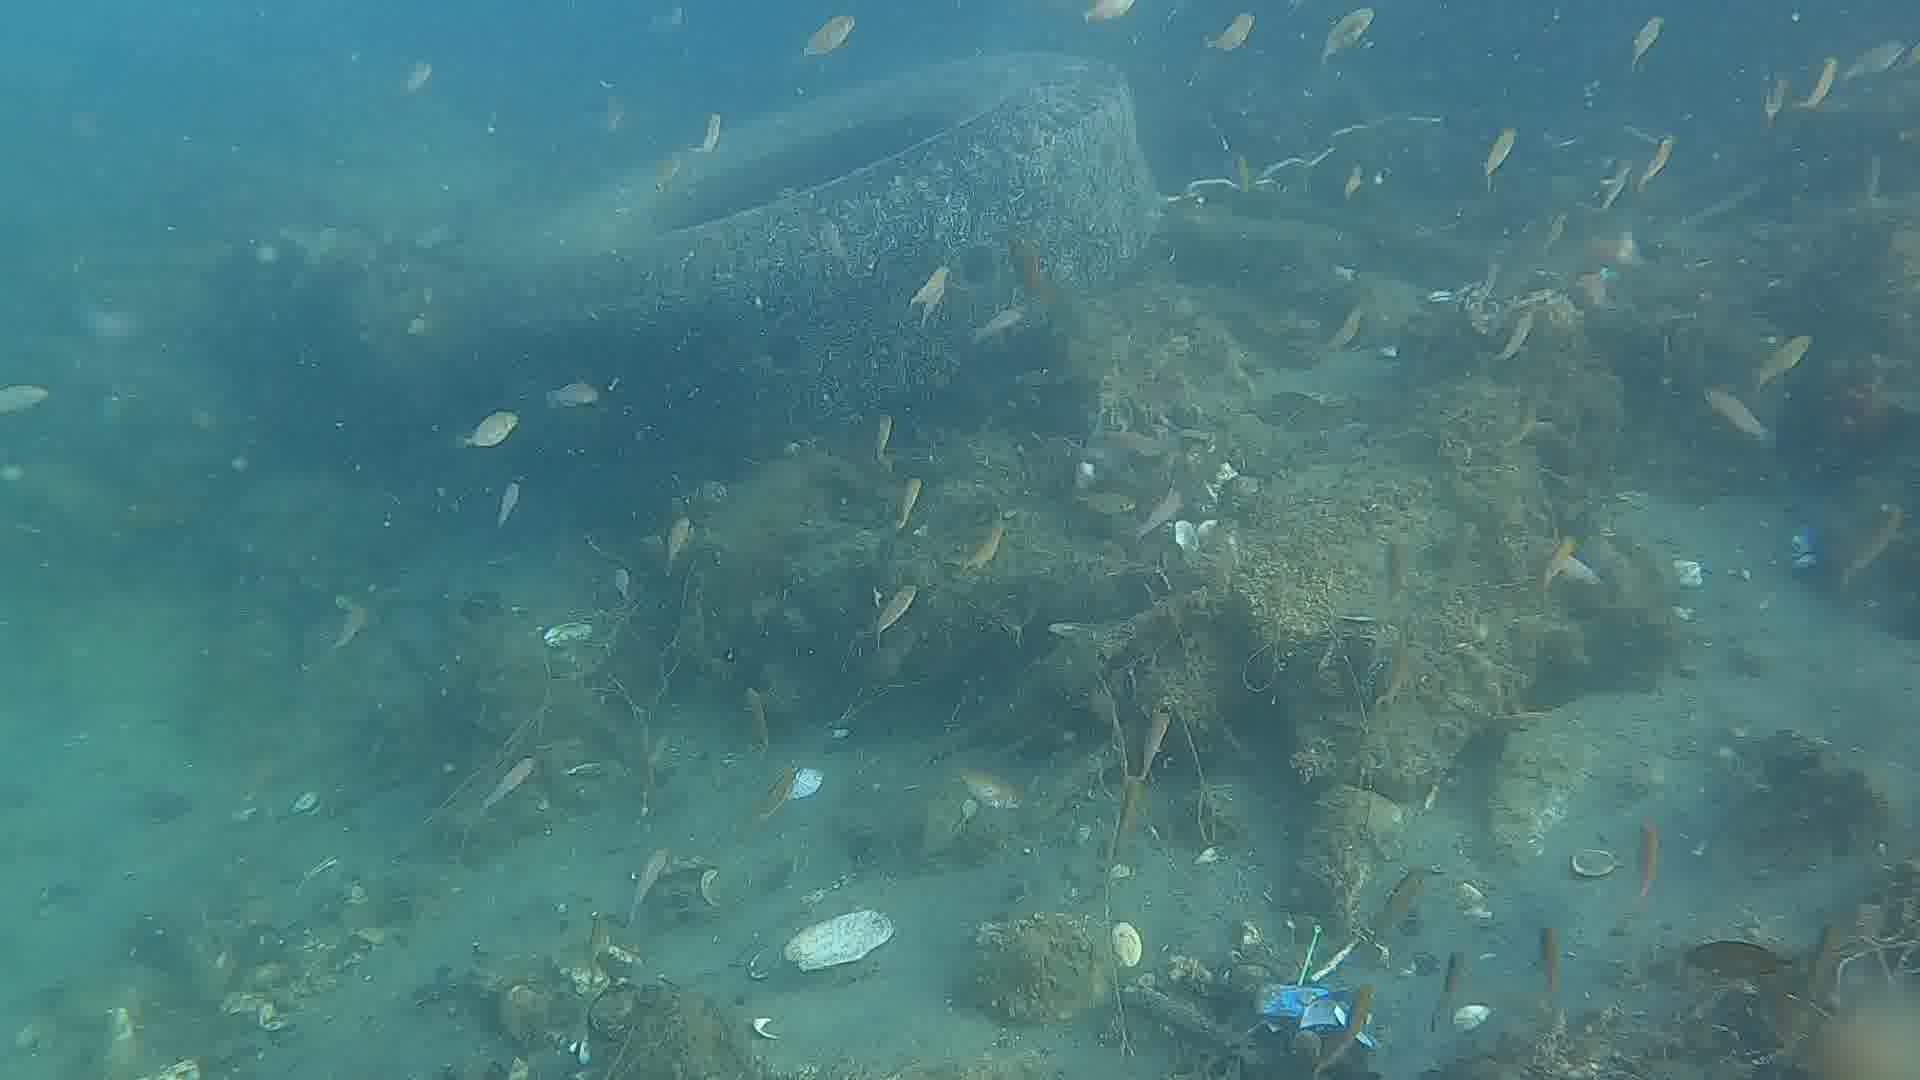tire: (483, 47, 1166, 442)
